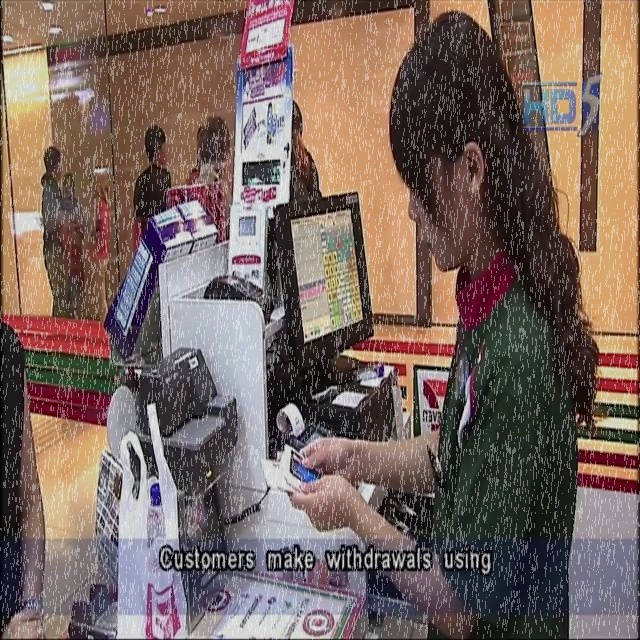pessoa: (286, 6, 604, 639), (0, 125, 51, 639), (40, 144, 72, 319), (78, 167, 112, 326), (193, 113, 233, 242), (132, 122, 172, 220), (62, 170, 86, 322), (289, 100, 323, 200), (264, 202, 282, 302), (186, 121, 202, 185)
